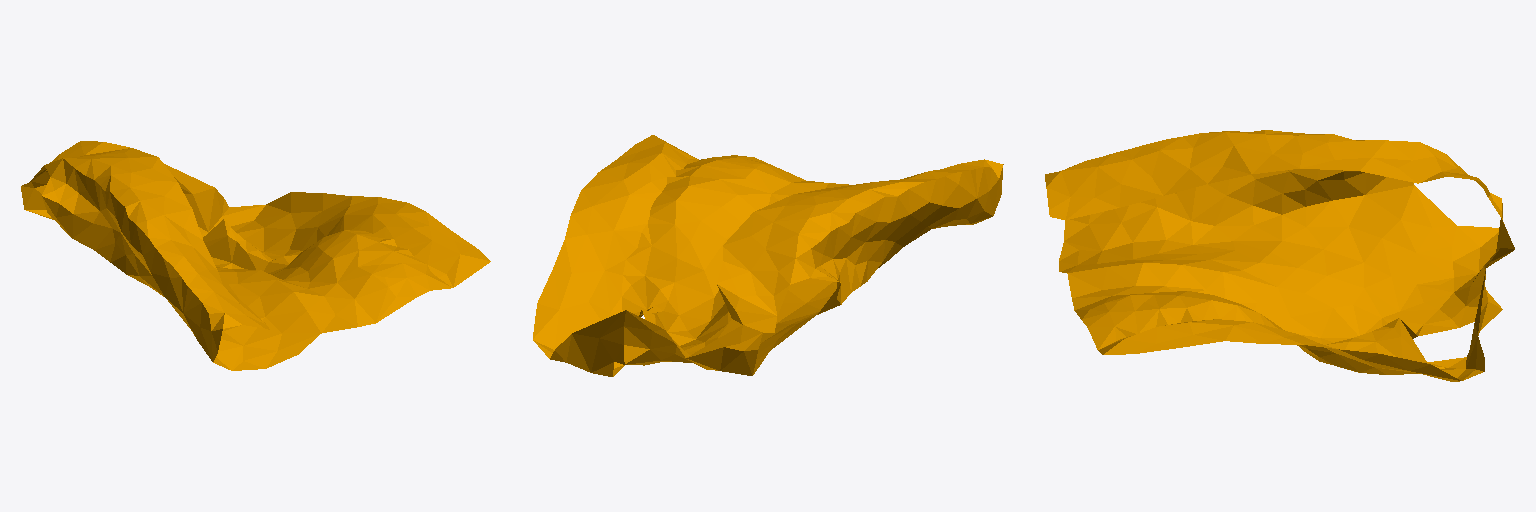
URDF robot description (init):
<?xml version='1.0' encoding='utf-8'?>
<robot name="init">
<link name="link_0"><inertial><mass value="1.0" /><origin rpy="0 0 0" xyz="0.000000 0.000000 0.000000" /><inertia ixx="1.0" ixy="0.0" ixz="0.0" iyy="1.0" iyz="0.0" izz="1.0" /></inertial><visual><origin rpy="0 0 0" xyz="0.000000 0.000000 0.000000" /><geometry><mesh filename="./clothHuman/cloth/1048.obj" /></geometry></visual><collision><origin rpy="0 0 0" xyz="0.000000 0.000000 0.000000" /><geometry><mesh filename="./clothHuman/cloth/1048.obj" /></geometry></collision></link></robot>

--- Render facts (derived) ---
The picture shows the robot from 3 angles, left to right: view 1: azimuth 30°, elevation 25°; view 2: azimuth 150°, elevation 25°; view 3: azimuth 270°, elevation 25°; orthographic projection.
Robot: init — 1 links, 0 joints (none); root link link_0; default pose: all joints at 0.
Links seen in each view (by area): view 1: link_0; view 2: link_0; view 3: link_0.
Boxes of the visible links, left/top/right/bottom form: link_0: left=21, top=141, right=490, bottom=370; link_0: left=533, top=135, right=1003, bottom=376; link_0: left=1045, top=130, right=1514, bottom=381.
Bounding box of the posed robot: 3.13 × 3.82 × 1.38 m (x, y, z).
Meshes: 1 distinct files referenced, 1 mesh visuals loaded (1 OBJ).